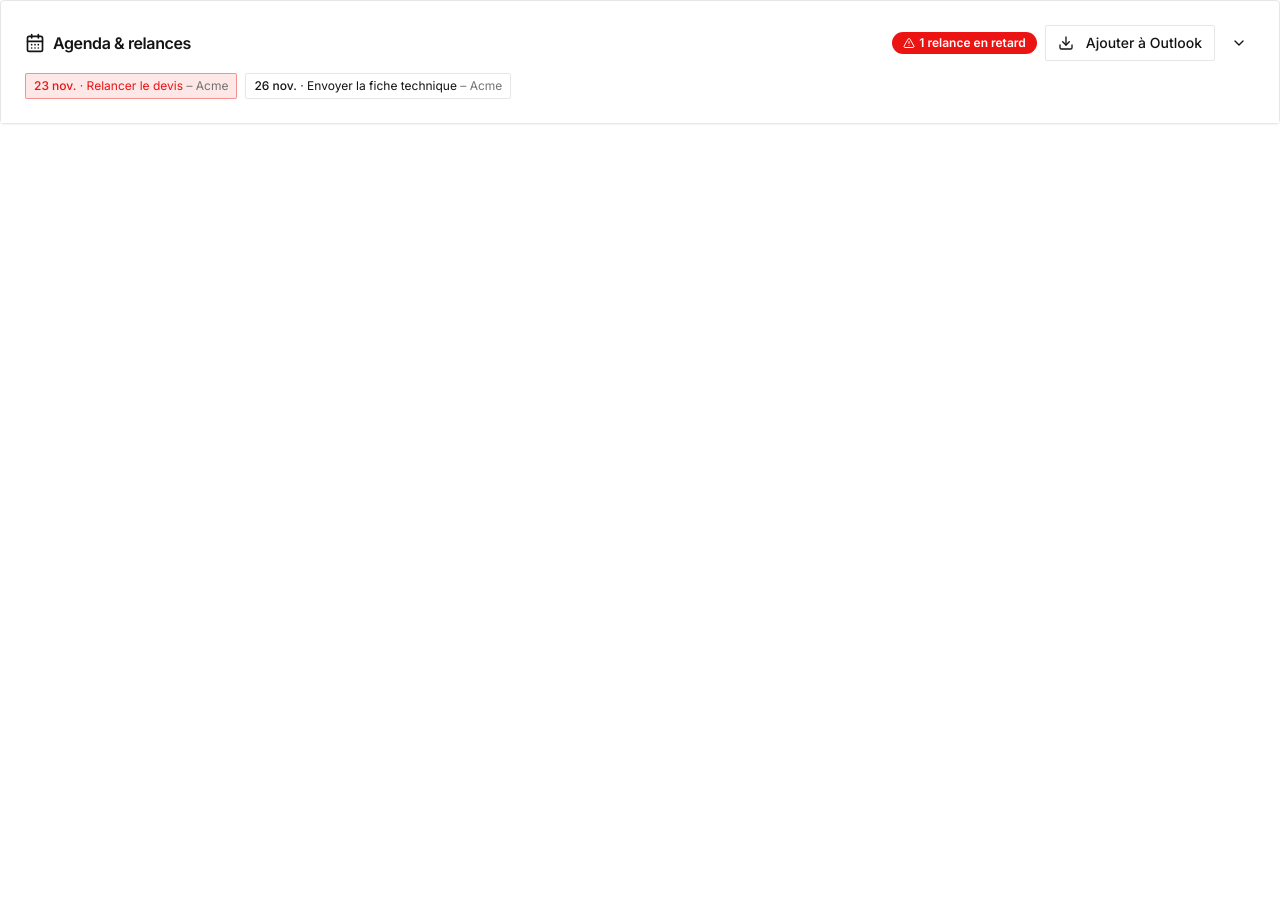
it: agenda et relances › rouvre depuis la bande repliée
The width and height of the screenshot is (1280, 900).
Click the button "23 nov. · Relancer le devis – Acme": (131,86) x1=25 y1=73 x2=237 y2=99
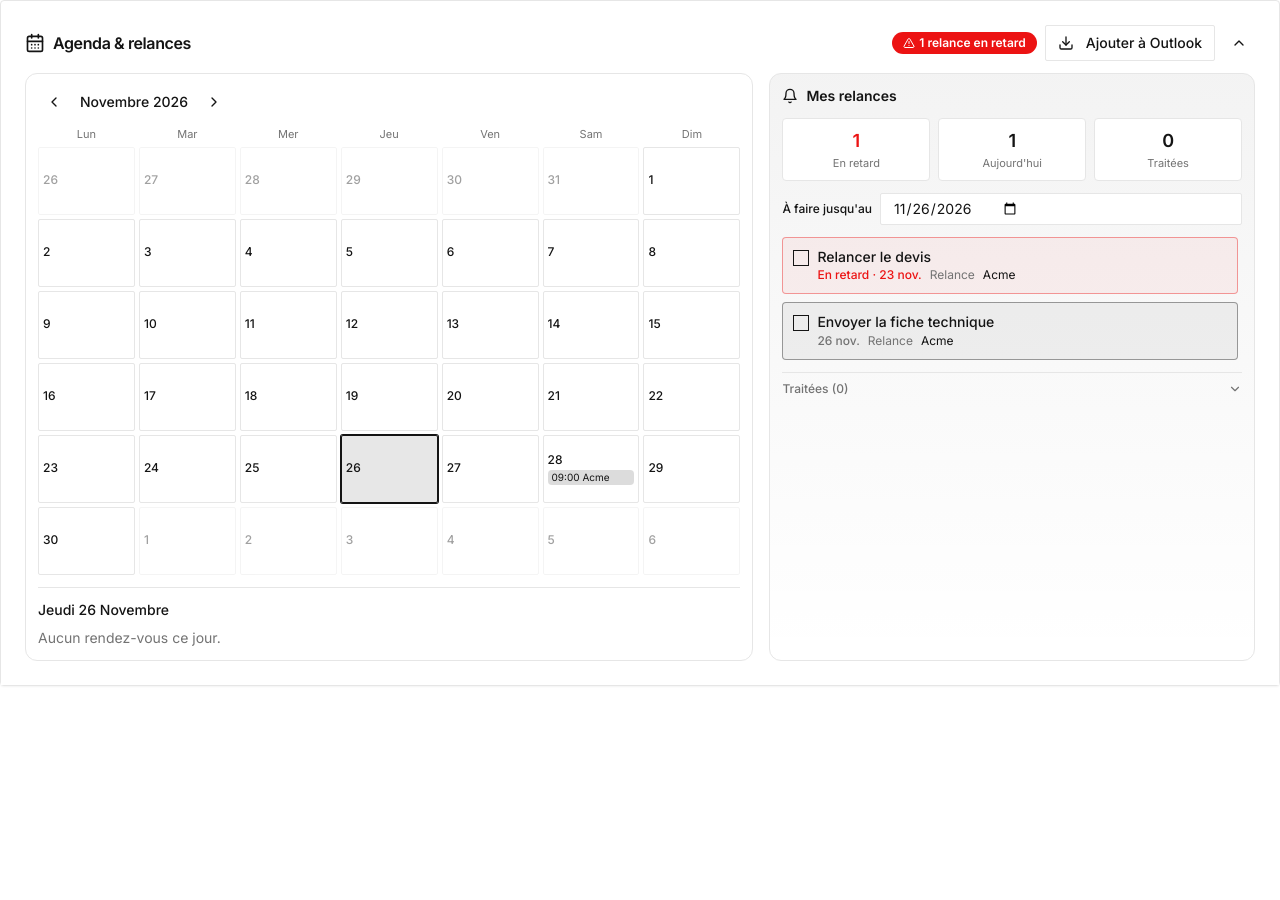
Result: the text "Lun" is shown at x1=77 y1=127 x2=96 y2=141
Result: the number of checkboxes is 2 at x1=793 y1=250 x2=809 y2=266; x1=793 y1=315 x2=809 y2=331
